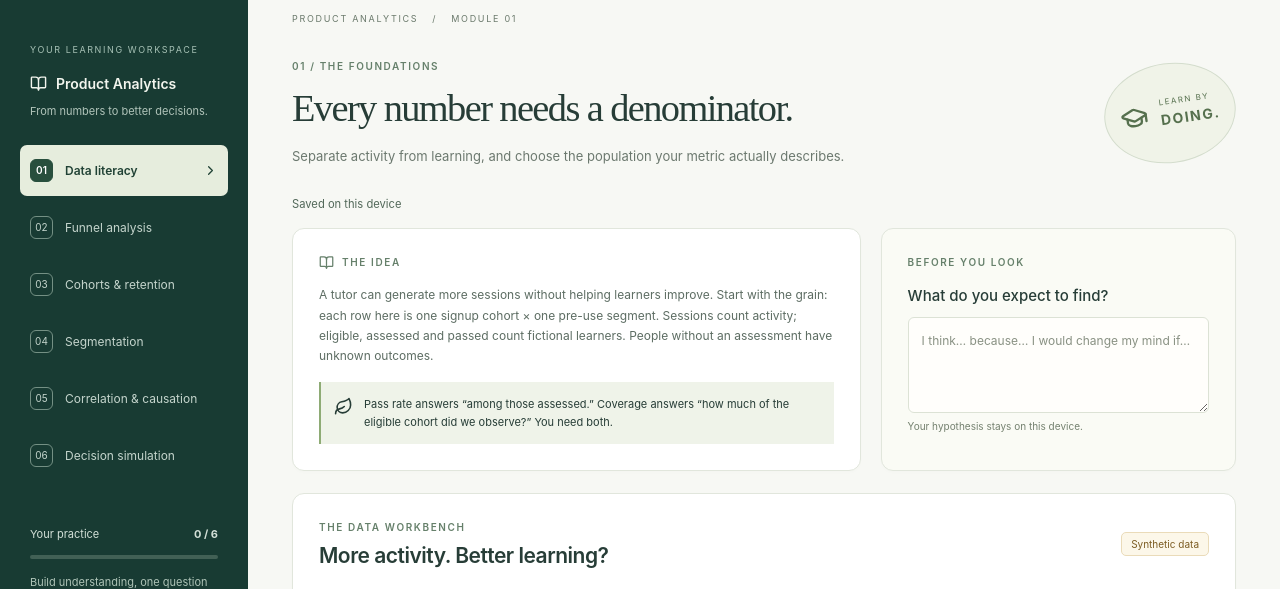
M3 distinguishes mature zero from unavailable under segment/cohort filters
This screenshot has width=1280, height=589.
Click the button "03 Cohorts & retention" at (124, 284), box x1=20 y1=259 x2=228 y2=310
(page scrolled)
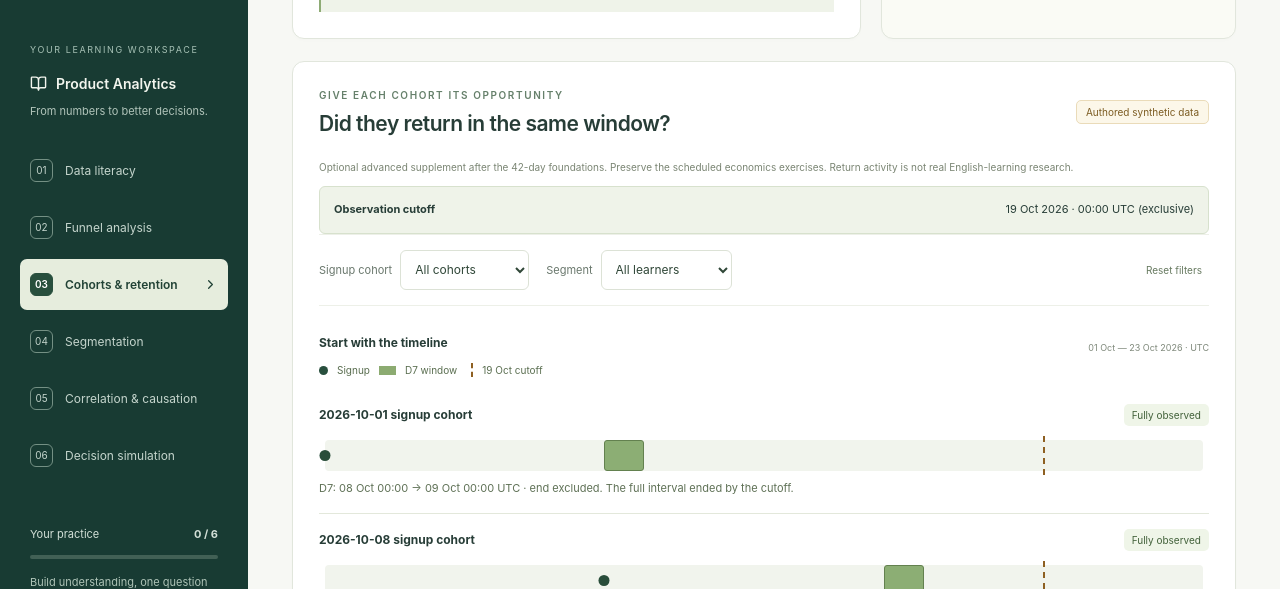
Select "Experienced" in the dropdown labelled "Segment" at (666, 270), box x1=601 y1=250 x2=732 y2=290
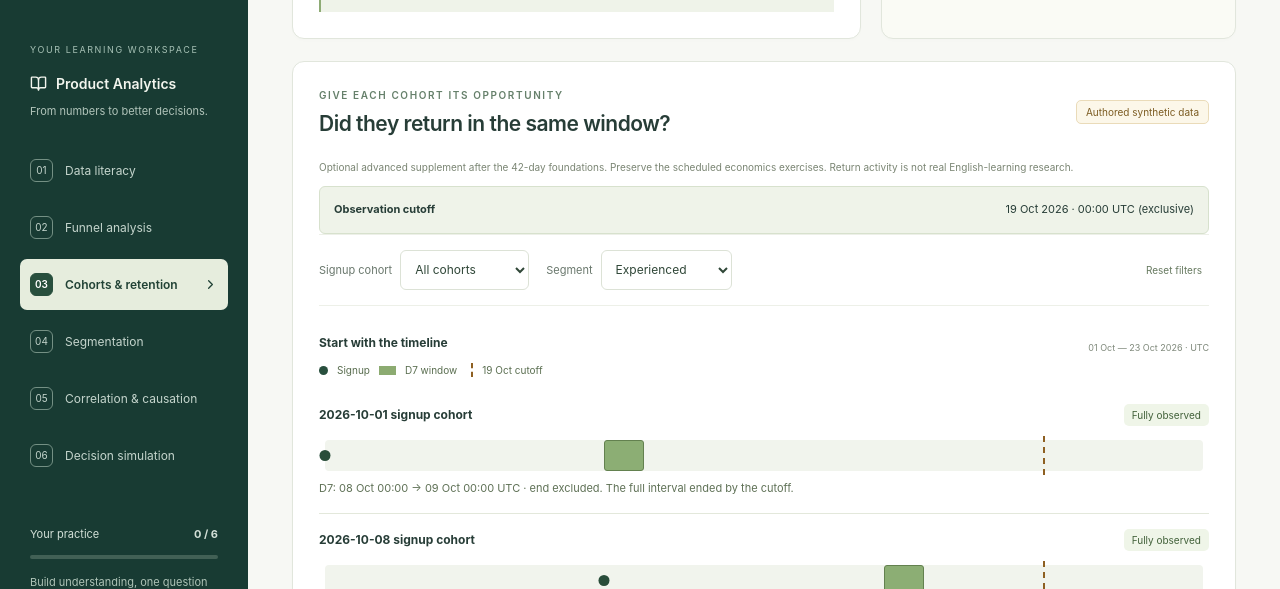
Select "2026-10-15" in the dropdown labelled "Signup cohort" at (465, 270), box x1=400 y1=250 x2=529 y2=290
(page scrolled)
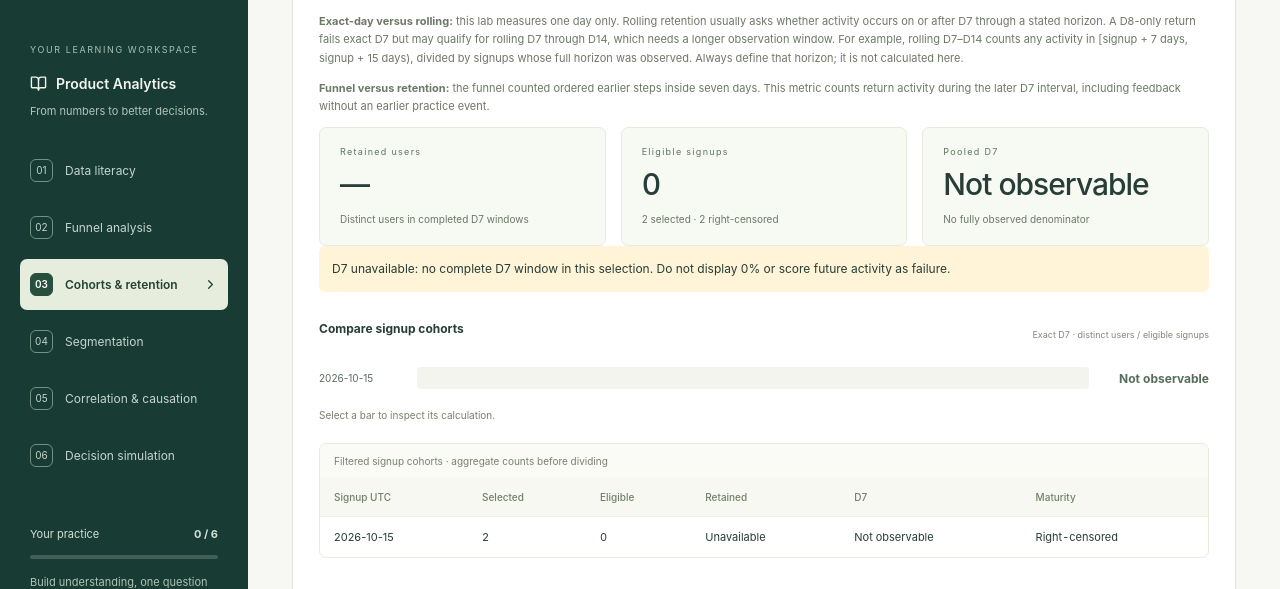
Result: the message shows "D7 unavailable" at x1=332 y1=261 x2=950 y2=276
